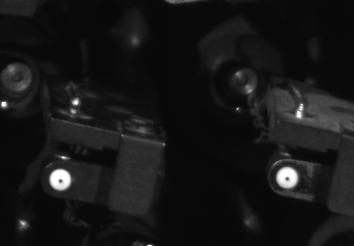fiber: (45, 163, 79, 196), (271, 162, 303, 194)
